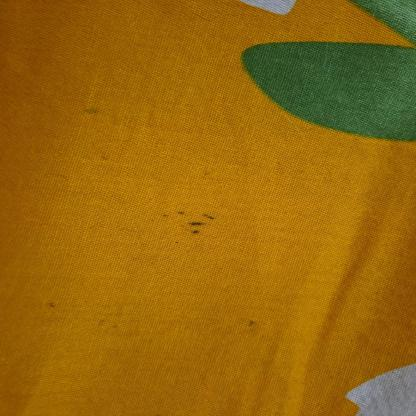spot: (164, 206, 228, 238), (38, 295, 72, 310), (184, 213, 217, 228), (240, 316, 266, 335), (78, 103, 110, 115)
